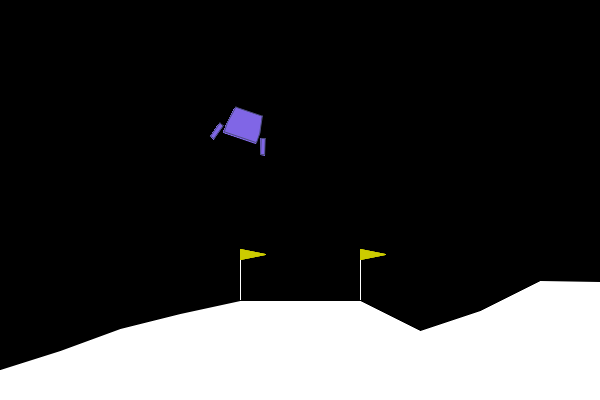lander: (208, 100, 278, 158)
